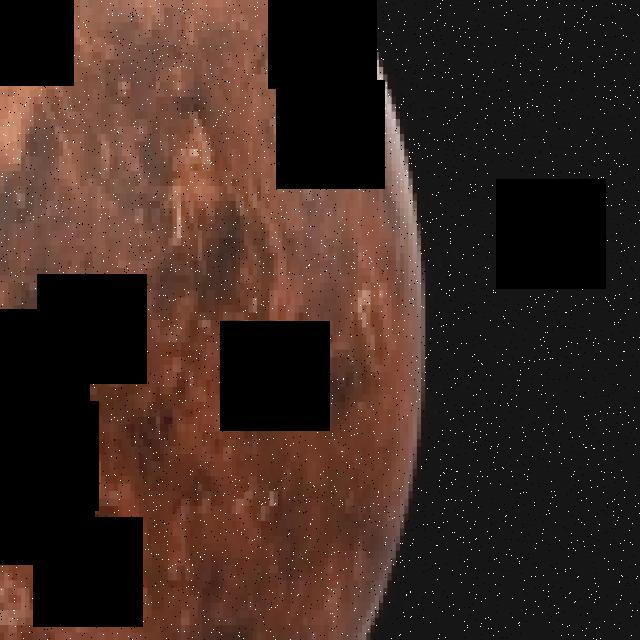Venus: (0, 0, 434, 640)
